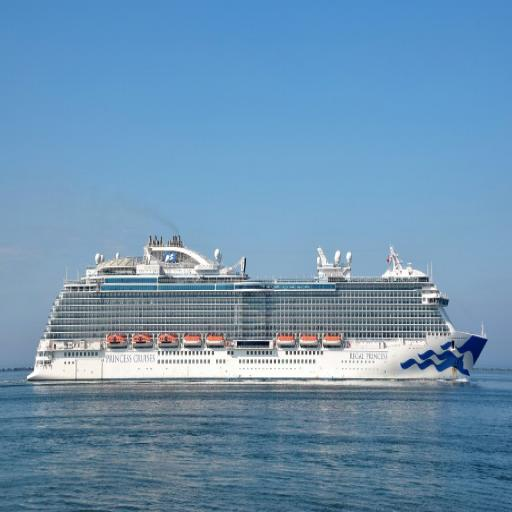cruises: (26, 225, 492, 391)
